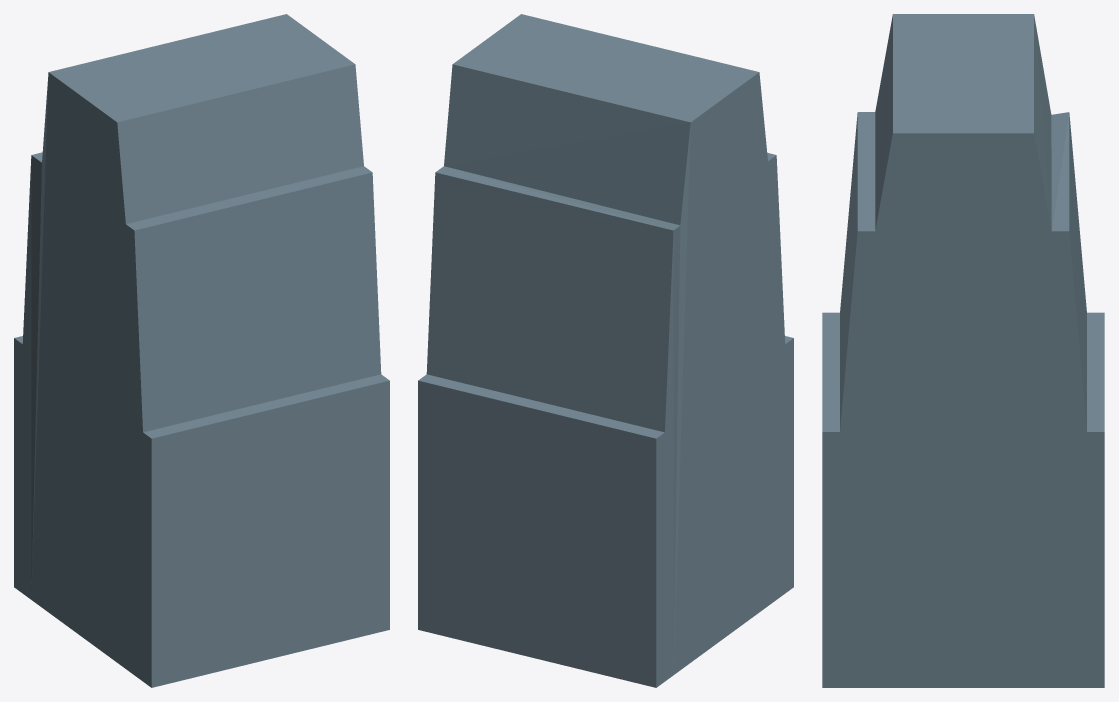
The model's file is model-triangulated.obj.
3 renders of one model, left to right at view 1: azimuth 30°, elevation 25°; view 2: azimuth 150°, elevation 25°; view 3: azimuth 270°, elevation 25°, orthographic. The views are drawn at different scales.
Parts seen in each view (by area): view 1: group684660134; view 2: group684660134; view 3: group684660134.
Boxes of the visible parts, bbox=[...] form: group684660134: bbox=[14, 14, 389, 687]; group684660134: bbox=[418, 14, 793, 687]; group684660134: bbox=[822, 14, 1104, 687].
Size of the model in its own units: 0.5481 by 1.19 by 0.5481.
